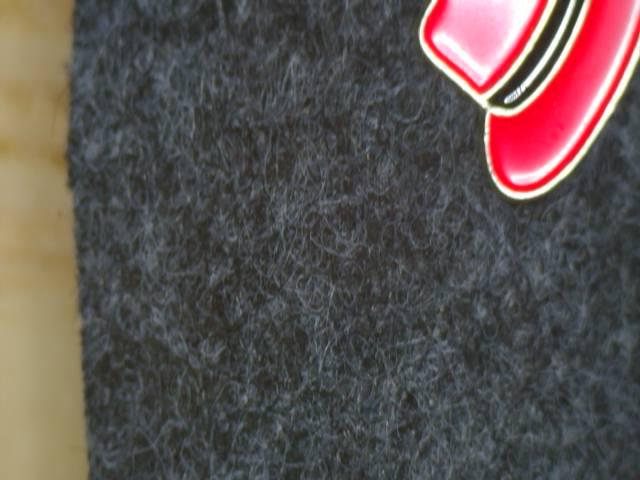Red-Hat: (411, 0, 640, 243)
